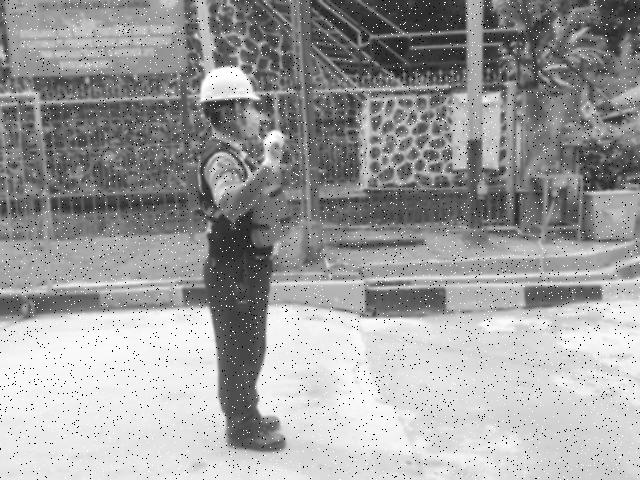glasses: (214, 101, 256, 111)
gloves: (260, 126, 288, 171)
helmet: (193, 61, 261, 103)
mask: (232, 109, 263, 138)
safety-shoes: (227, 423, 287, 457), (223, 401, 283, 432)
vest: (176, 153, 295, 249)
